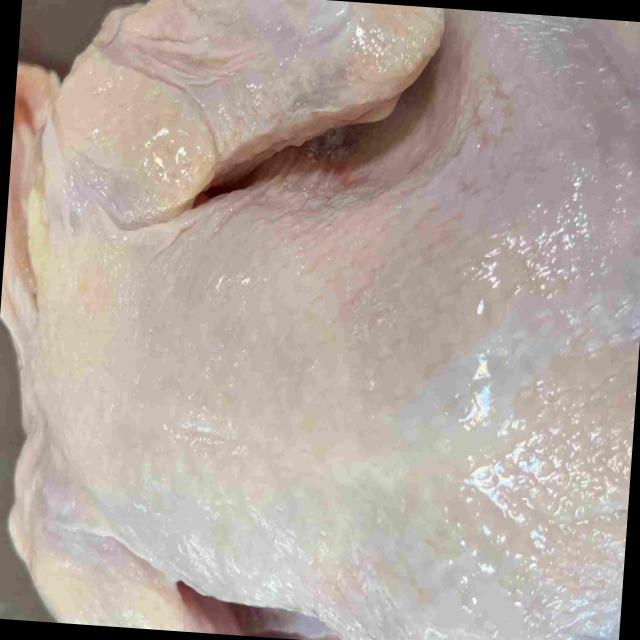back: (139, 192, 640, 640)
neck: (0, 138, 35, 360)
wing: (55, 0, 451, 233), (25, 526, 246, 636)
